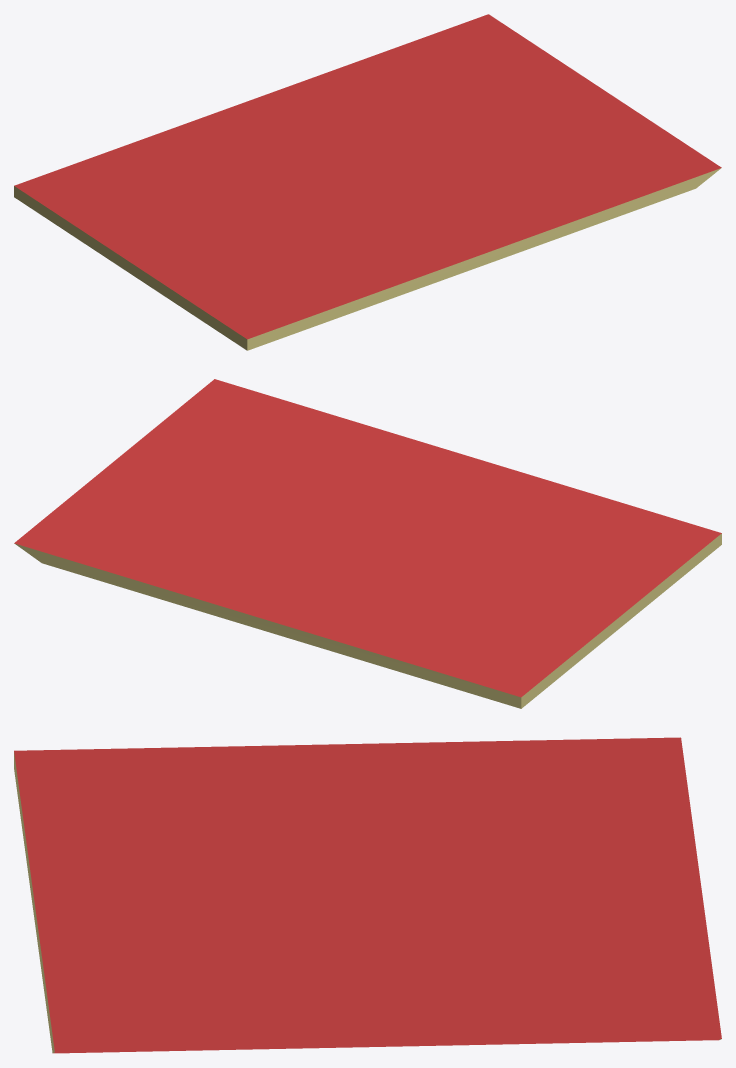
3 renders of one model, top to bottom at view 1: azimuth 30°, elevation 25°; view 2: azimuth 150°, elevation 25°; view 3: azimuth 270°, elevation 25°, orthographic. The views are drawn at different scales.
Bounding box in the file's own units: 4.64 × 3.64 × 0.477.
